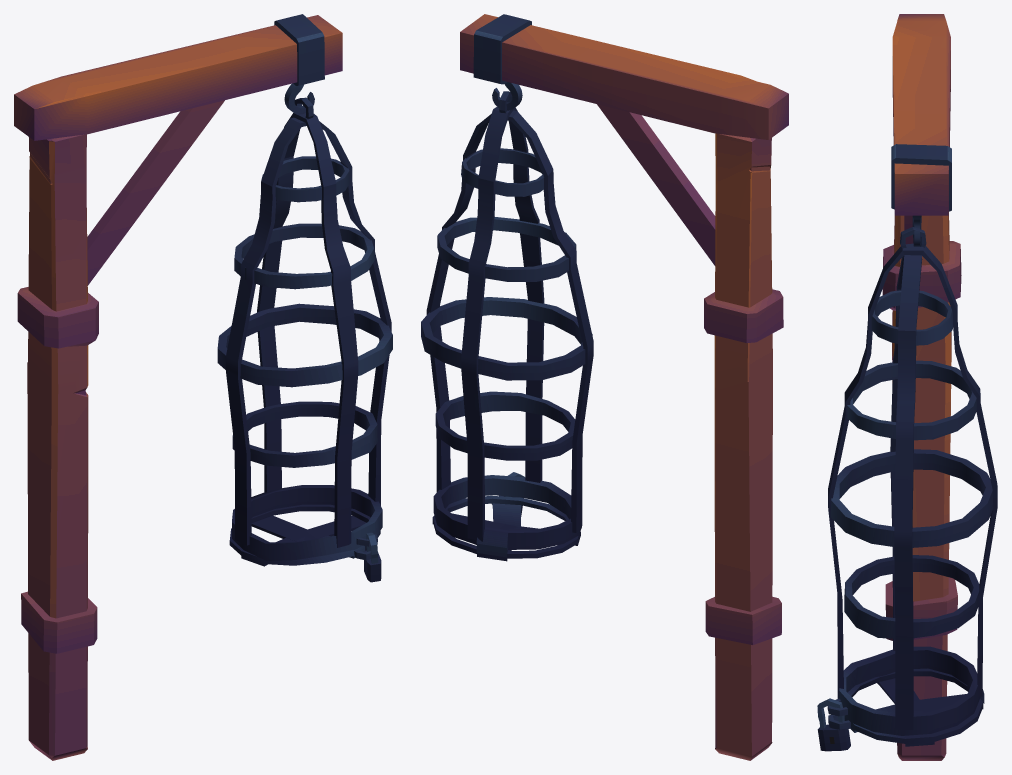
Rendered from Gibbet_Pole.fbx.
3 renders of one model, left to right at view 1: azimuth 30°, elevation 25°; view 2: azimuth 150°, elevation 25°; view 3: azimuth 270°, elevation 25°, orthographic. The views are drawn at different scales.
Visible parts, largest first — view 1: Gibbet_Pole, Gibbet_Cage1; view 2: Gibbet_Pole, Gibbet_Cage1; view 3: Gibbet_Cage1, Gibbet_Pole.
Boxes of the visible parts, x1,y1,x2,y2 form: Gibbet_Pole: (14,14,342,760); Gibbet_Cage1: (217,97,392,582); Gibbet_Pole: (460,14,788,760); Gibbet_Cage1: (421,91,593,561); Gibbet_Cage1: (817,227,997,751); Gibbet_Pole: (882,14,961,760).
Bounding box in the file's own units: 6.31 × 11.27 × 2.52.
